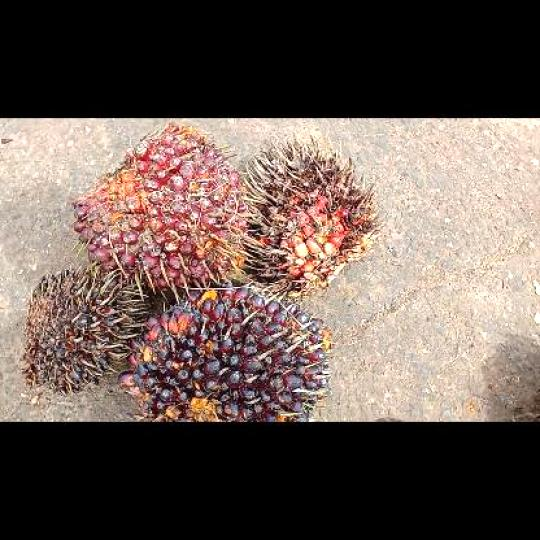kurang masak: (117, 281, 335, 420)
masak: (71, 121, 251, 296)
terlalu masak: (240, 132, 386, 296)
